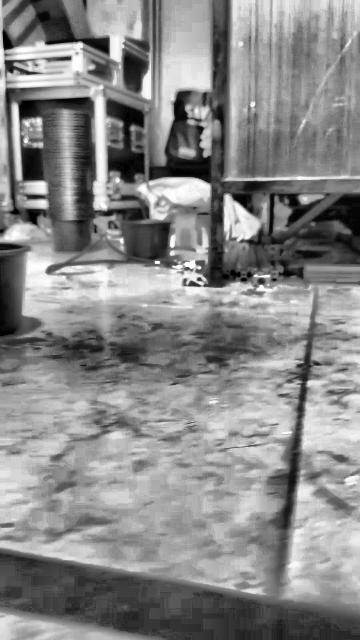pot: (1, 242, 30, 335), (121, 219, 171, 262)
